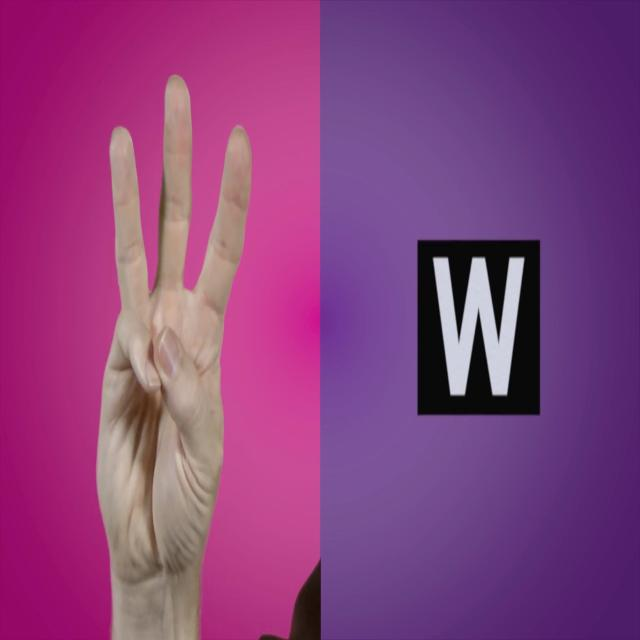W: (71, 61, 276, 640)
